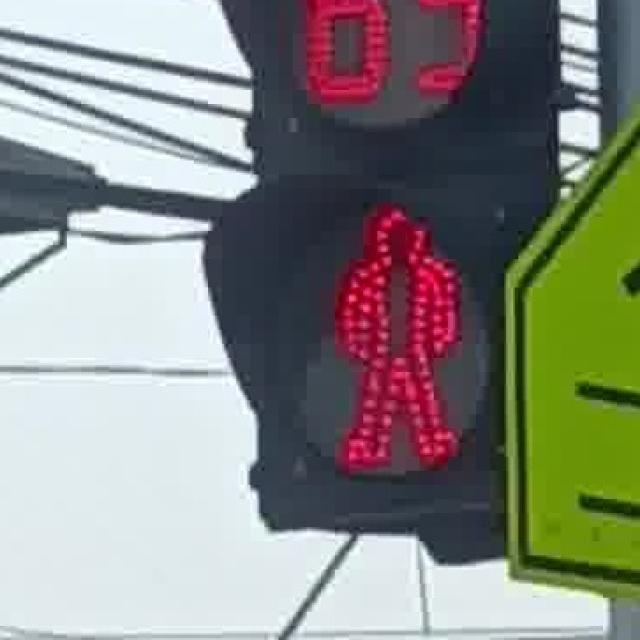red-crossing: (314, 188, 472, 484)
